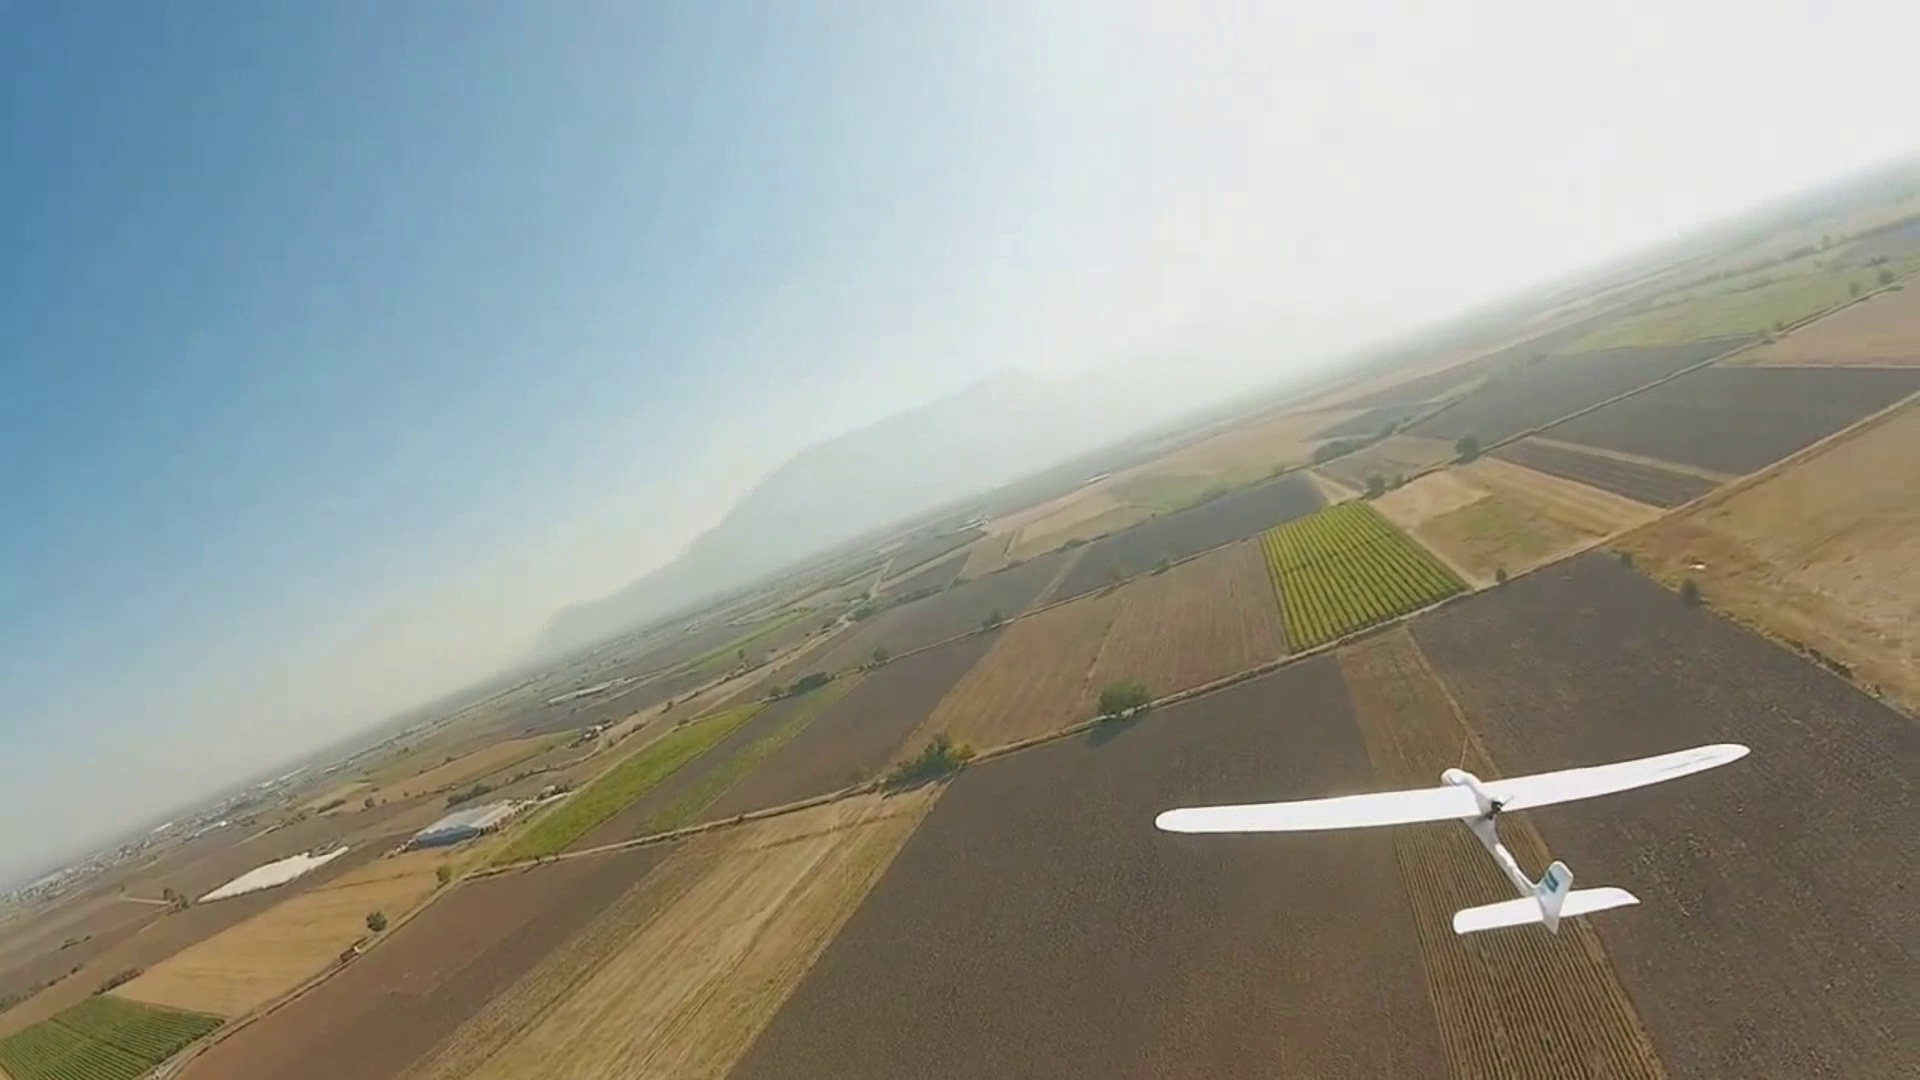airplane: (1154, 744, 1745, 931)
